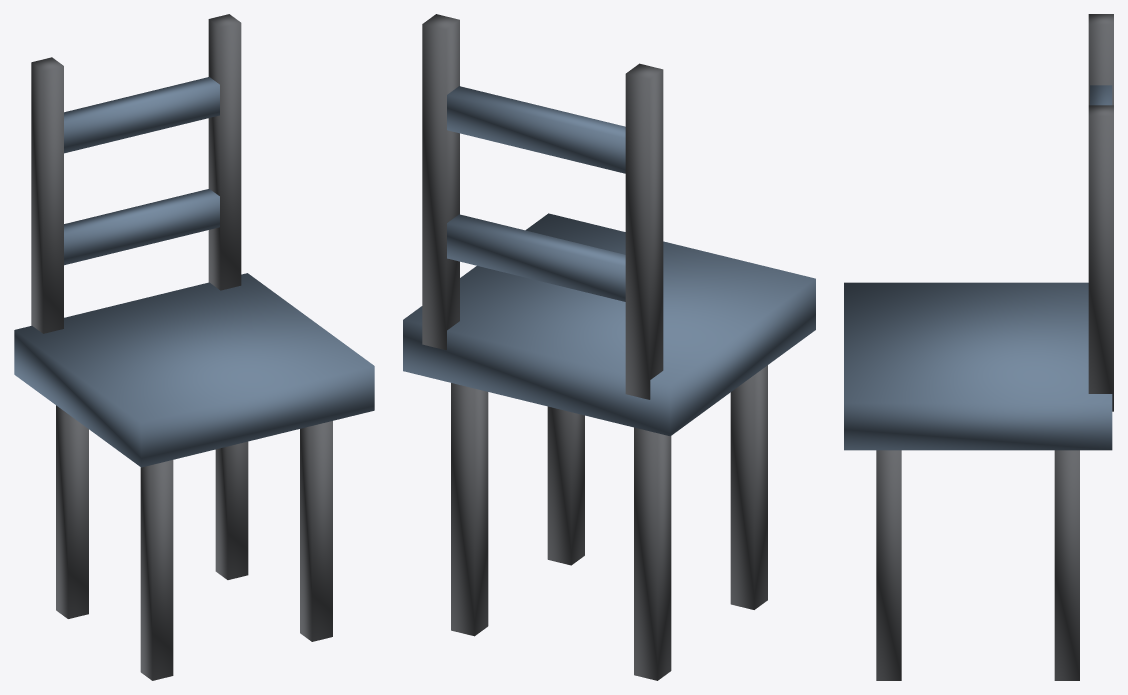
The model's file is jury_chair__tall.glb.
3 views of the same model, side by side, from view 1: azimuth 30°, elevation 25°; view 2: azimuth 150°, elevation 25°; view 3: azimuth 270°, elevation 25° (orthographic). The views are drawn at different scales.
Parts seen in each view (by area): view 1: world; view 2: world; view 3: world.
Part boxes in pixels (x1,y1,x2,y2): world: (14,14,374,680); world: (403,14,815,680); world: (844,14,1113,680).
Bounding box in the file's own units: 0.5065 × 1.12 × 0.4796.
